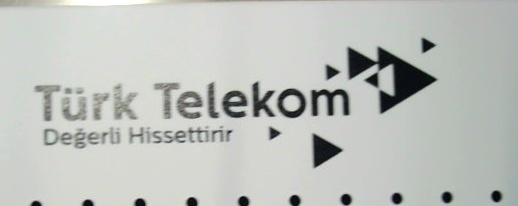AQ_TURKTelekom: (33, 39, 439, 166)
